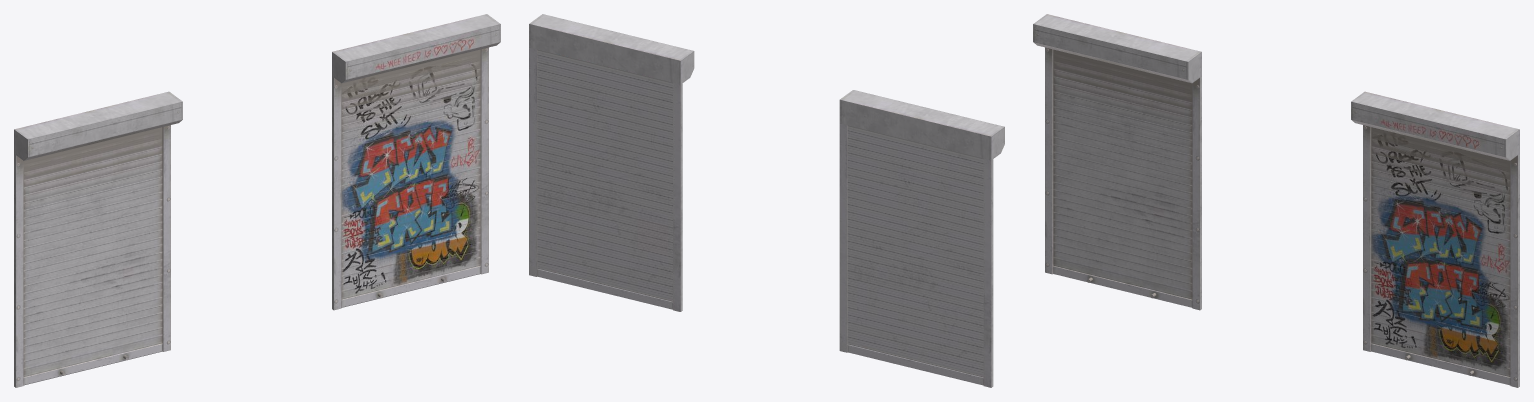
3 views of the same model, side by side, from view 1: azimuth 30°, elevation 25°; view 2: azimuth 150°, elevation 25°; view 3: azimuth 330°, elevation 25° (orthographic). The views are drawn at different scales.
Visible parts, largest first — view 1: rollershutter_window_03_graffiti, rollershutter_window_03; view 2: rollershutter_window_03, rollershutter_window_03_graffiti; view 3: rollershutter_window_03, rollershutter_window_03_graffiti.
Part boxes in pixels (x1,y1,x2,y2): rollershutter_window_03_graffiti: [332, 14, 500, 310]; rollershutter_window_03: [14, 91, 182, 387]; rollershutter_window_03: [839, 90, 1004, 387]; rollershutter_window_03_graffiti: [529, 14, 694, 311]; rollershutter_window_03: [1033, 14, 1201, 310]; rollershutter_window_03_graffiti: [1351, 91, 1519, 387].
Bounding box in the file's own units: 2.98 × 1.55 × 0.1531.
Materials: 2 (2 with a texture image).
